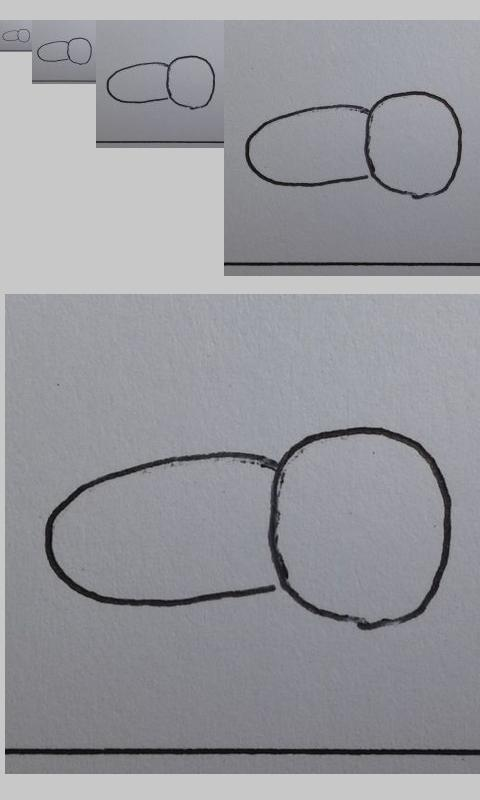switch: (44, 424, 454, 632), (243, 90, 463, 200), (105, 55, 216, 110), (37, 37, 92, 65), (2, 28, 31, 43)
